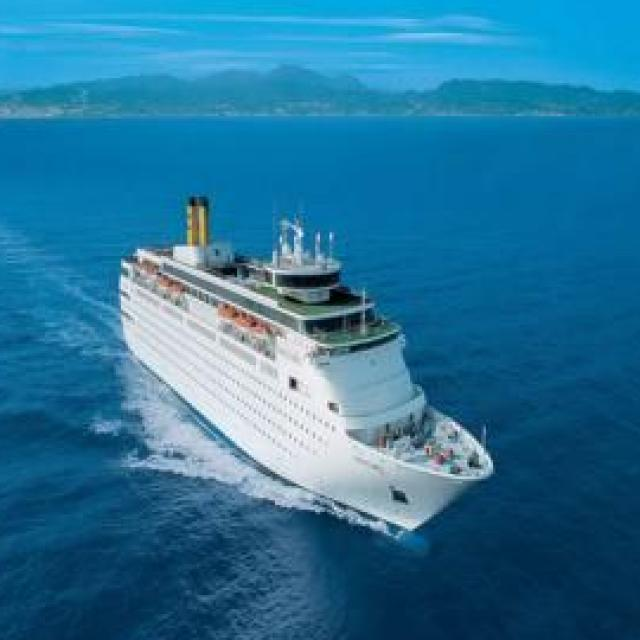passenger ship: (116, 192, 496, 542)
